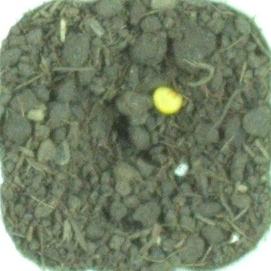chilli seed: (151, 85, 185, 115)
